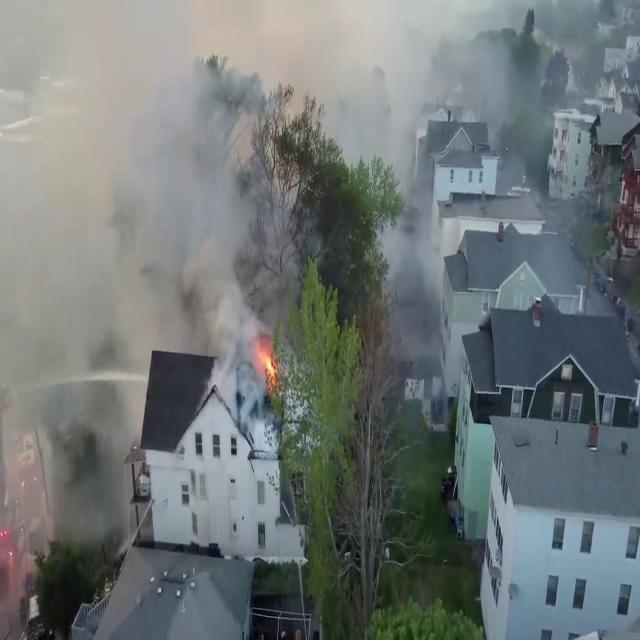Fire: (253, 338, 280, 393)
Smoke: (0, 0, 293, 381), (367, 206, 456, 380)
